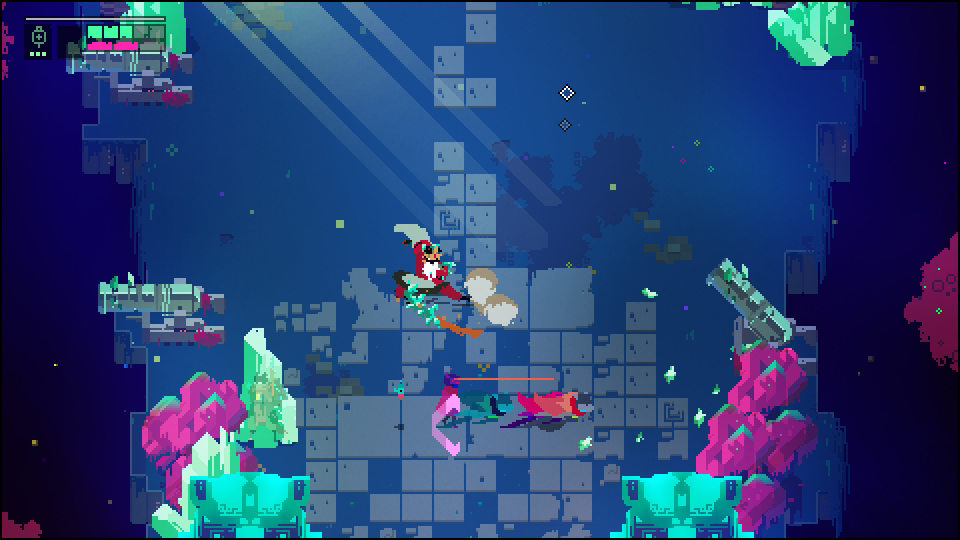hanged_man: (395, 222, 479, 333)
player: (514, 387, 592, 424)
